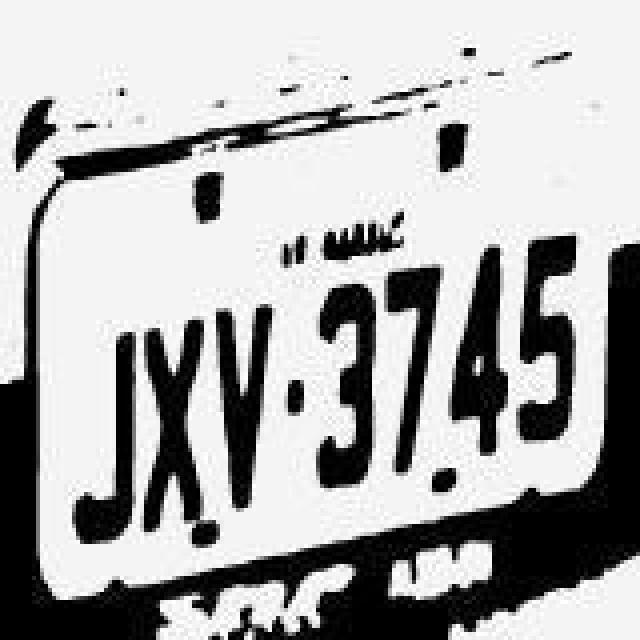3: (312, 266, 384, 494)
4: (450, 238, 518, 458)
5: (518, 222, 594, 442)
7: (380, 254, 452, 474)
J: (70, 320, 138, 544)
V: (210, 292, 278, 508)
X: (136, 312, 208, 536)
